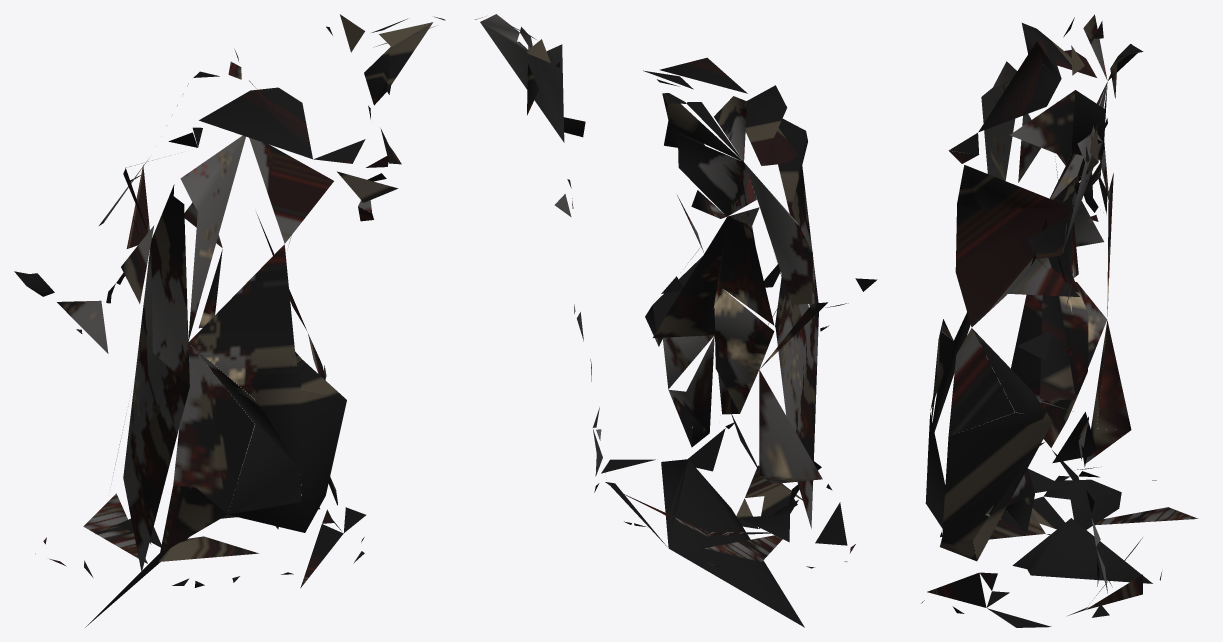
The picture shows the model from 3 angles, left to right: view 1: azimuth 30°, elevation 25°; view 2: azimuth 150°, elevation 25°; view 3: azimuth 270°, elevation 25°; orthographic projection. The views are drawn at different scales.
Visible parts, largest first — view 1: body.002; view 2: body.002; view 3: body.002.
Part boxes in pixels (x1,y1,x2,y2): body.002: [14, 14, 445, 627]; body.002: [475, 14, 877, 627]; body.002: [921, 14, 1198, 627].
Size of the model in its own units: 1.84 by 2.29 by 0.9669.
1 material, 1 textured.
